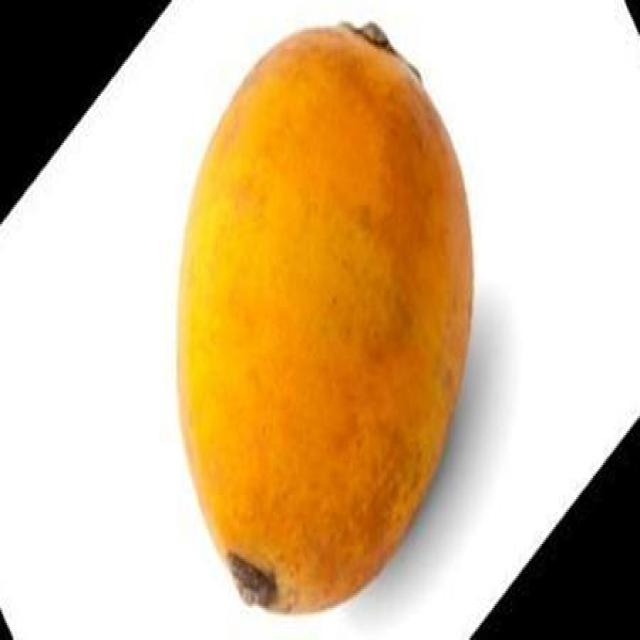good: (175, 23, 476, 617)
